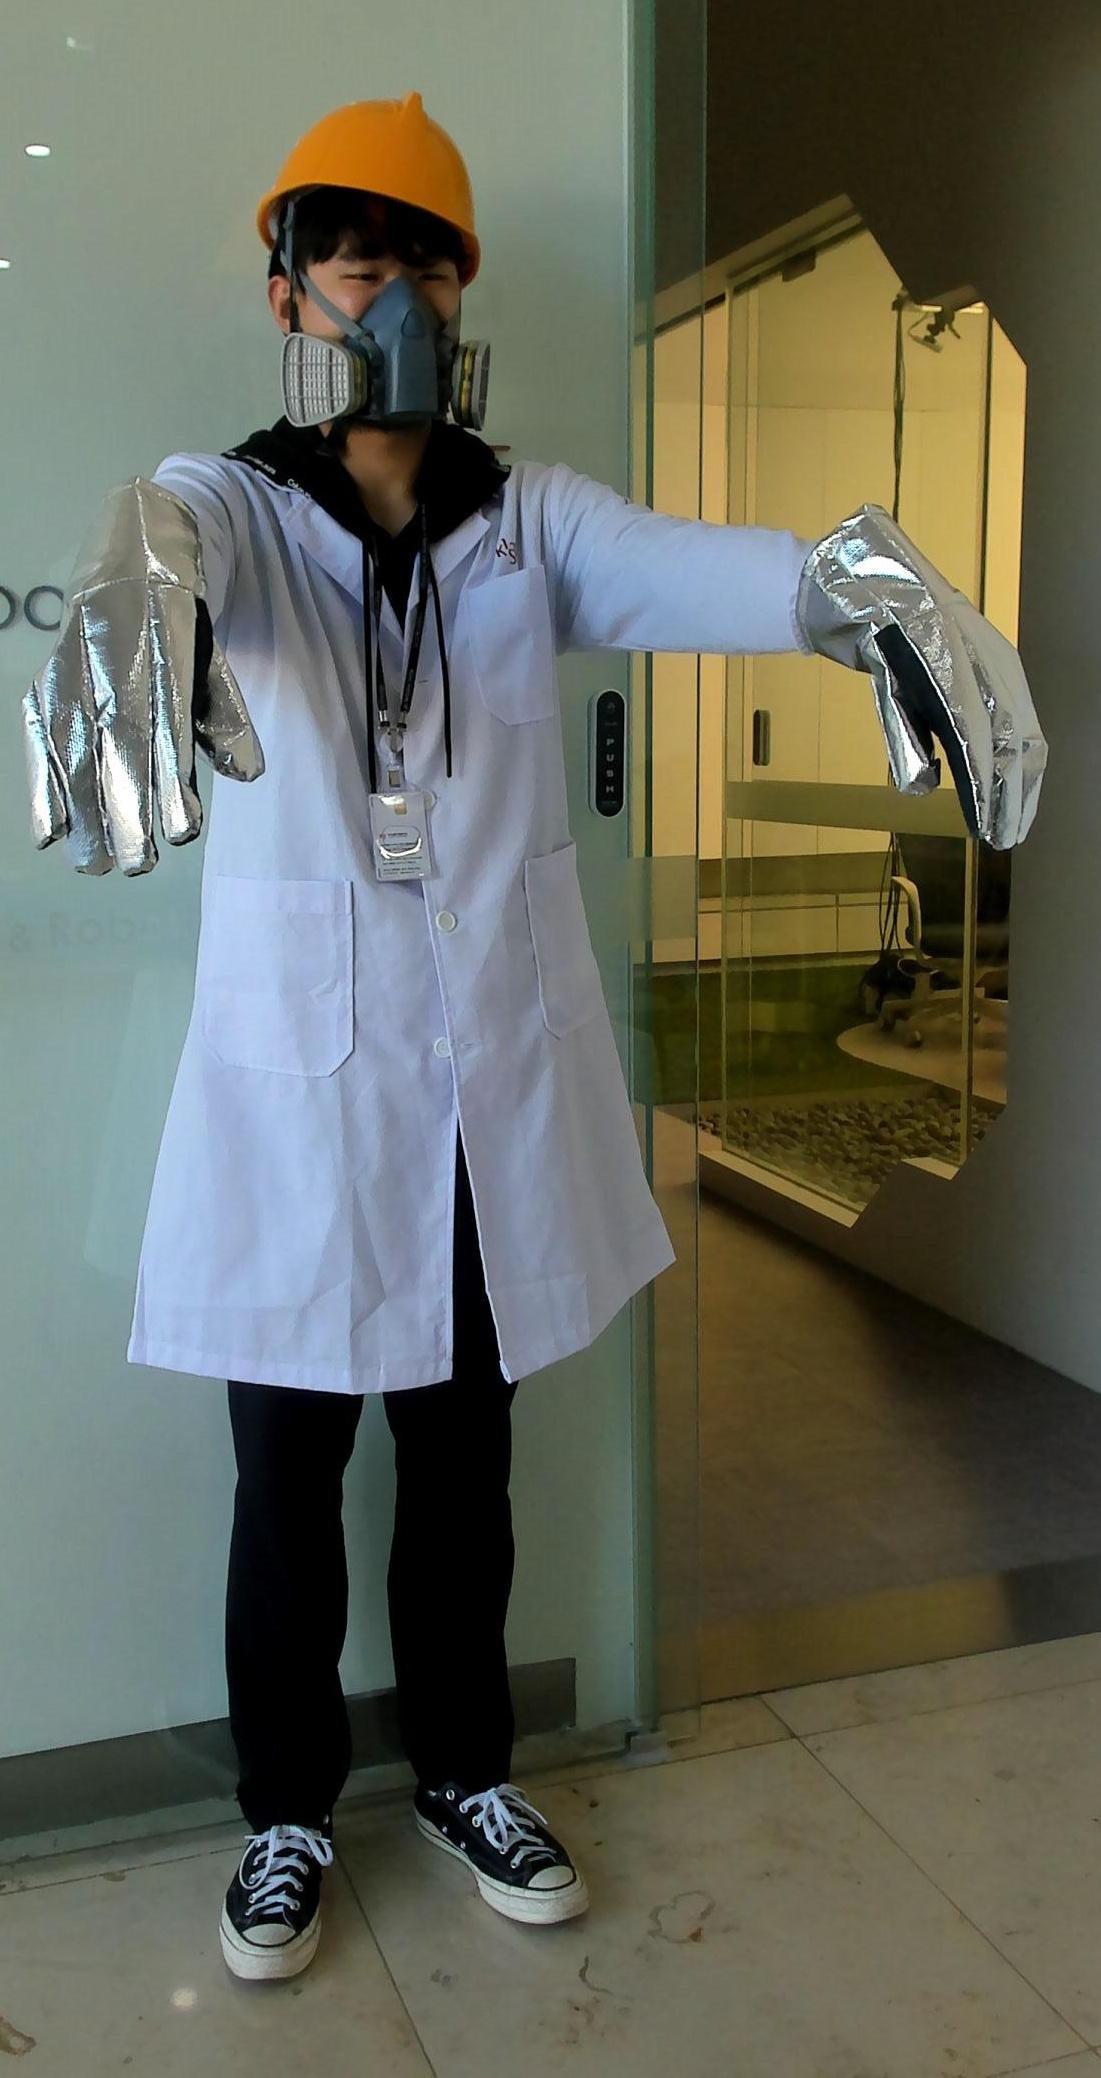lab_coat: (184, 493, 701, 1369)
